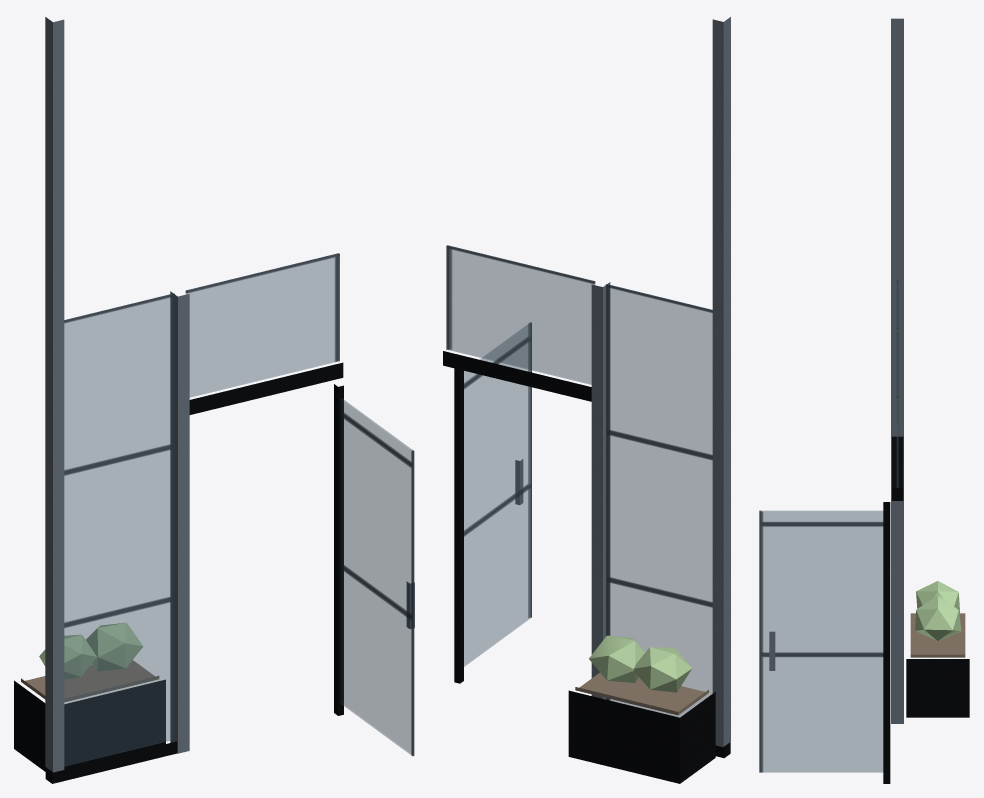
The model's file is v3_door.glb.
3 renders of one model, left to right at view 1: azimuth 30°, elevation 25°; view 2: azimuth 150°, elevation 25°; view 3: azimuth 270°, elevation 25°, orthographic. The views are drawn at different scales.
Visible parts, largest first — view 1: Glass_Sidelight, Post_Steel, Glass_Door_Leaf, Glass_Transom, Planter_Trough, Door_Leaf_Frame, Foliage, Door_Header, Planter_Soil, Floor_Channel; view 2: Glass_Sidelight, Post_Steel, Glass_Door_Leaf, Glass_Transom, Planter_Trough, Foliage, Door_Leaf_Frame, Planter_Soil, Door_Header; view 3: Glass_Door_Leaf, Post_Steel, Planter_Trough, Door_Leaf_Frame, Foliage, Planter_Soil, Door_Header.
Boxes of the visible parts, bbox=[...] form: Glass_Sidelight: bbox=[64, 293, 174, 766]; Post_Steel: bbox=[45, 17, 189, 772]; Glass_Door_Leaf: bbox=[340, 398, 414, 756]; Glass_Transom: bbox=[185, 253, 339, 397]; Planter_Trough: bbox=[14, 679, 165, 771]; Door_Leaf_Frame: bbox=[334, 384, 343, 715]; Foliage: bbox=[39, 622, 143, 679]; Door_Header: bbox=[189, 362, 343, 414]; Planter_Soil: bbox=[21, 660, 159, 701]; Floor_Channel: bbox=[45, 741, 177, 783]; Glass_Sidelight: bbox=[606, 284, 712, 717]; Post_Steel: bbox=[591, 17, 730, 747]; Glass_Door_Leaf: bbox=[464, 322, 531, 666]; Glass_Transom: bbox=[446, 245, 595, 384]; Planter_Trough: bbox=[568, 690, 715, 783]; Foliage: bbox=[589, 635, 692, 692]; Door_Leaf_Frame: bbox=[454, 368, 463, 683]; Planter_Soil: bbox=[575, 672, 708, 715]; Door_Header: bbox=[443, 351, 591, 401]; Glass_Door_Leaf: bbox=[759, 510, 883, 772]; Post_Steel: bbox=[891, 18, 903, 723]; Planter_Trough: bbox=[906, 659, 969, 717]; Door_Leaf_Frame: bbox=[883, 502, 890, 783]; Foliage: bbox=[915, 581, 961, 640]; Planter_Soil: bbox=[910, 613, 965, 657]; Door_Header: bbox=[892, 436, 903, 500].
Bounding box in the file's own units: 2 × 5 × 1.46.
Materials: 5 (3 with a texture image).
